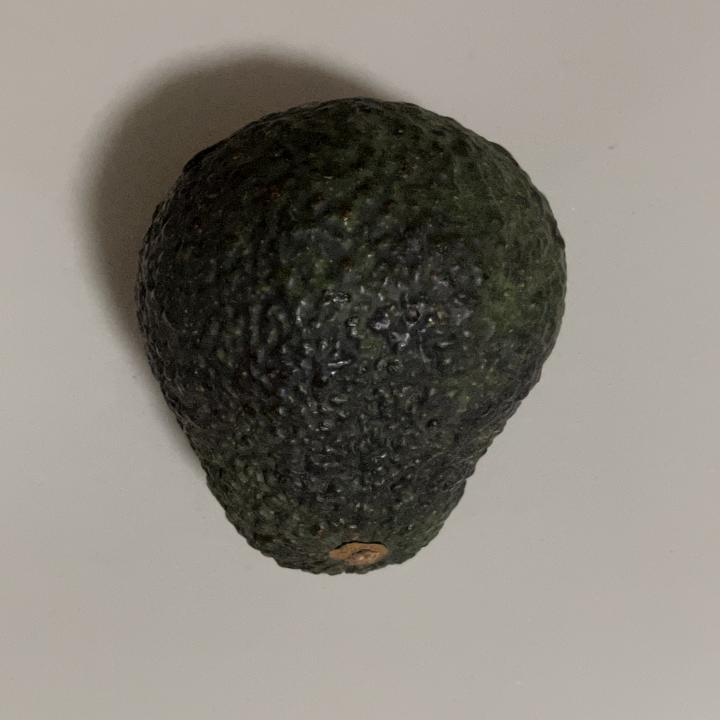Level1: (119, 90, 583, 592)
